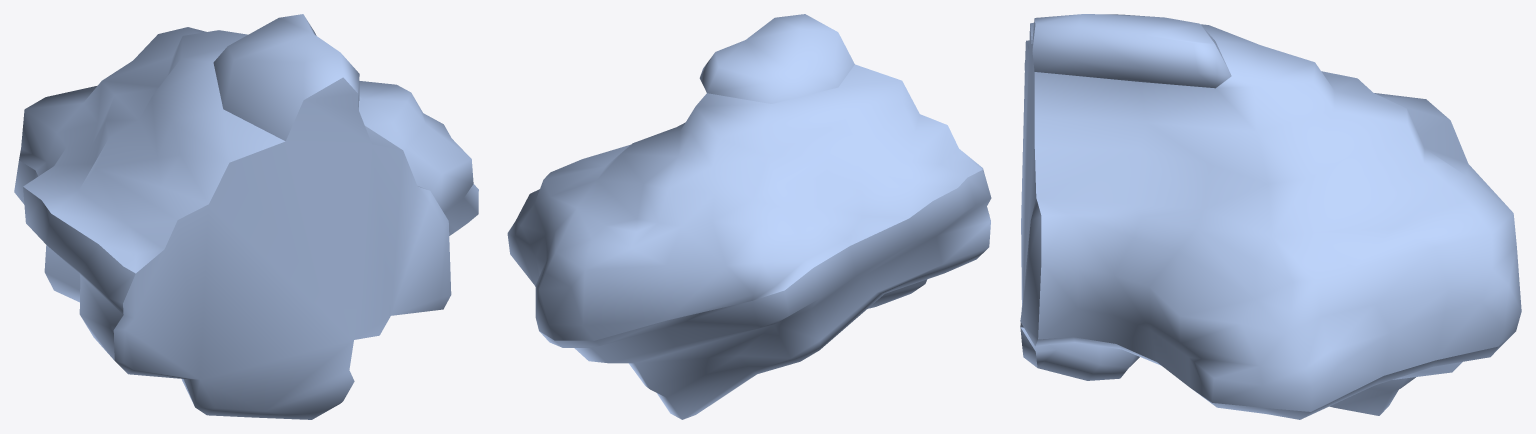
The model's file is Rock_006.FBX.
3 views of the same model, side by side, from view 1: azimuth 30°, elevation 25°; view 2: azimuth 150°, elevation 25°; view 3: azimuth 270°, elevation 25° (orthographic). The views are drawn at different scales.
Visible parts, largest first — view 1: Rock_006_LOD0; view 2: Rock_006_LOD0; view 3: Rock_006_LOD0.
Part boxes in pixels (left/top/right/bottom): Rock_006_LOD0: left=14, top=14, right=478, bottom=419; Rock_006_LOD0: left=507, top=14, right=991, bottom=419; Rock_006_LOD0: left=1020, top=14, right=1521, bottom=419.
Size of the model in its own units: 169 by 146 by 127.
